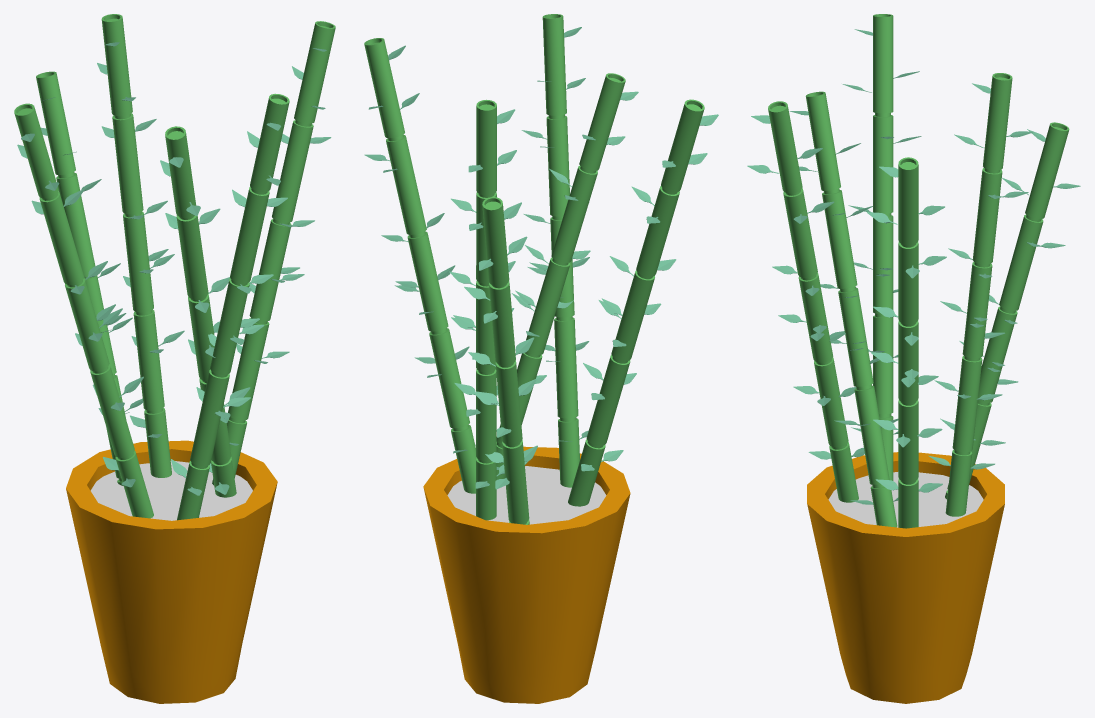
File: menta.glb
The picture shows the model from 3 angles, left to right: view 1: azimuth 30°, elevation 25°; view 2: azimuth 150°, elevation 25°; view 3: azimuth 270°, elevation 25°; orthographic projection. The views are drawn at different scales.
Bounding box in the file's own units: 0.9062 × 1.63 × 0.8214.
